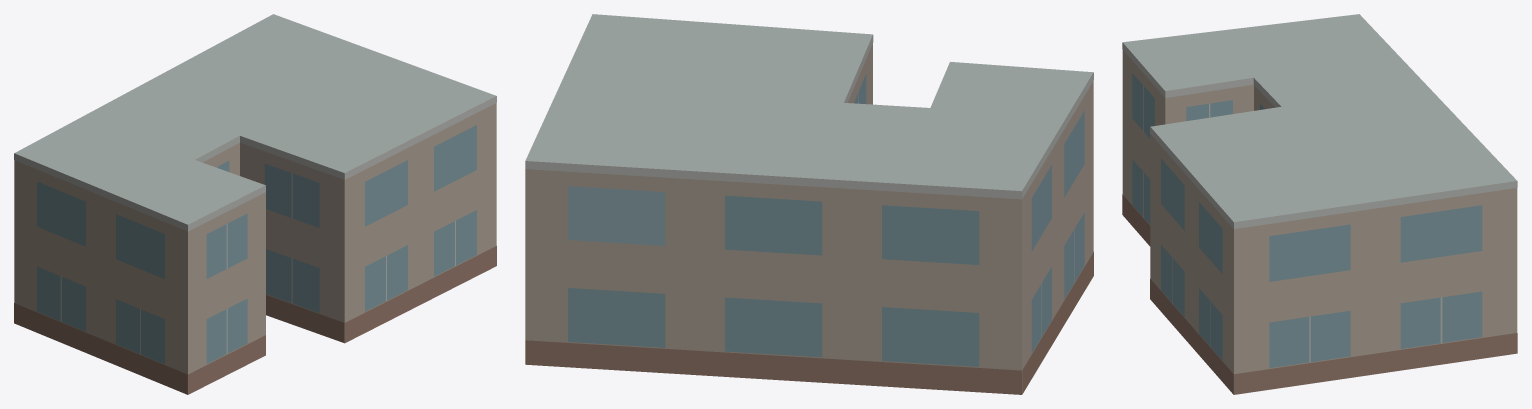
File: survey-upis-32955260.glb
3 renders of one model, left to right at view 1: azimuth 30°, elevation 25°; view 2: azimuth 150°, elevation 25°; view 3: azimuth 270°, elevation 25°, orthographic. The views are drawn at different scales.
Parts seen in each view (by area): view 1: survey-upis-32955260.tmp; view 2: survey-upis-32955260.tmp; view 3: survey-upis-32955260.tmp.
Part boxes in pixels (x1,y1,x2,y2): survey-upis-32955260.tmp: (14, 14, 496, 394); survey-upis-32955260.tmp: (525, 14, 1093, 394); survey-upis-32955260.tmp: (1122, 14, 1517, 394).
Bounding box in the file's own units: 15.8 × 6.1 × 12.66.
